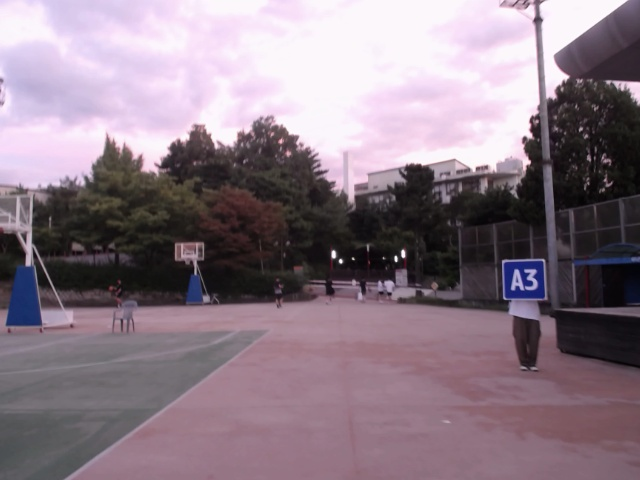delivery_a3: (502, 260, 547, 301)
